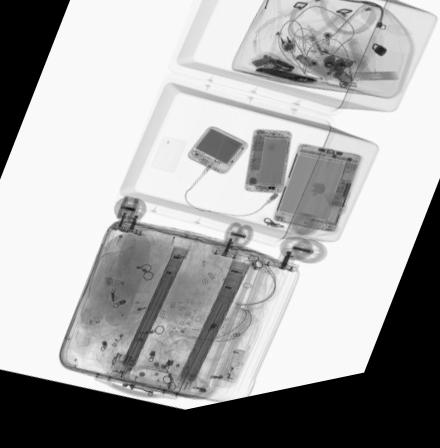Powerbank: (184, 131, 248, 184)
